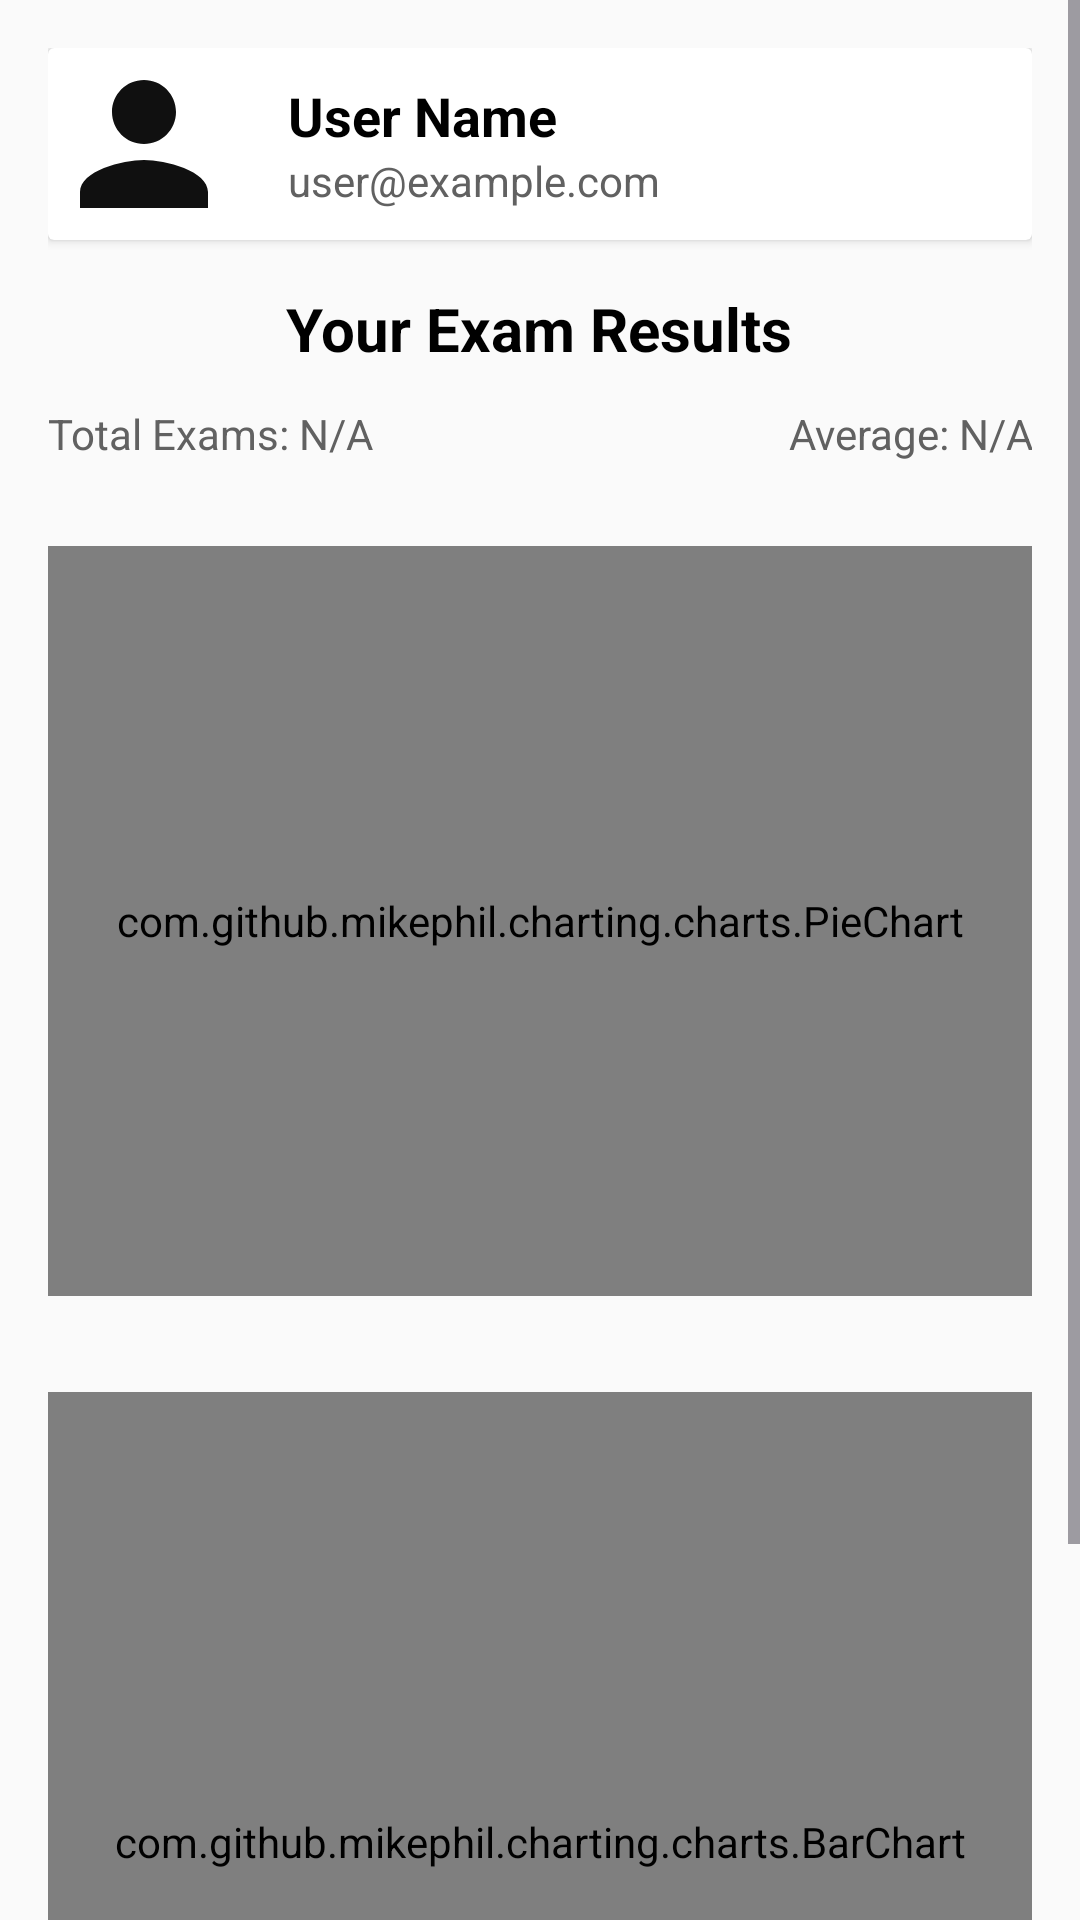

Locate icon controls on the screen. Image size 1080x1920, boxes as {"x1": x1, "y1": y1, "x2": x2, "y2": y2}.
Profile picture: {"x1": 48, "y1": 48, "x2": 208, "y2": 208}
